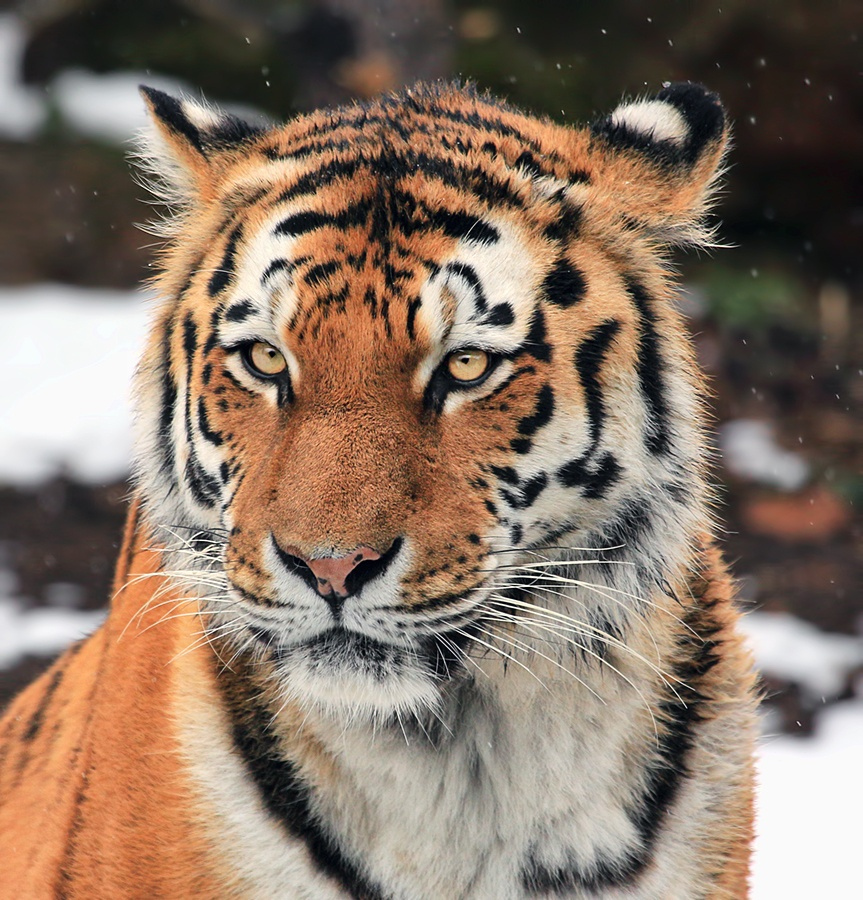tiger: (71, 49, 790, 877)
